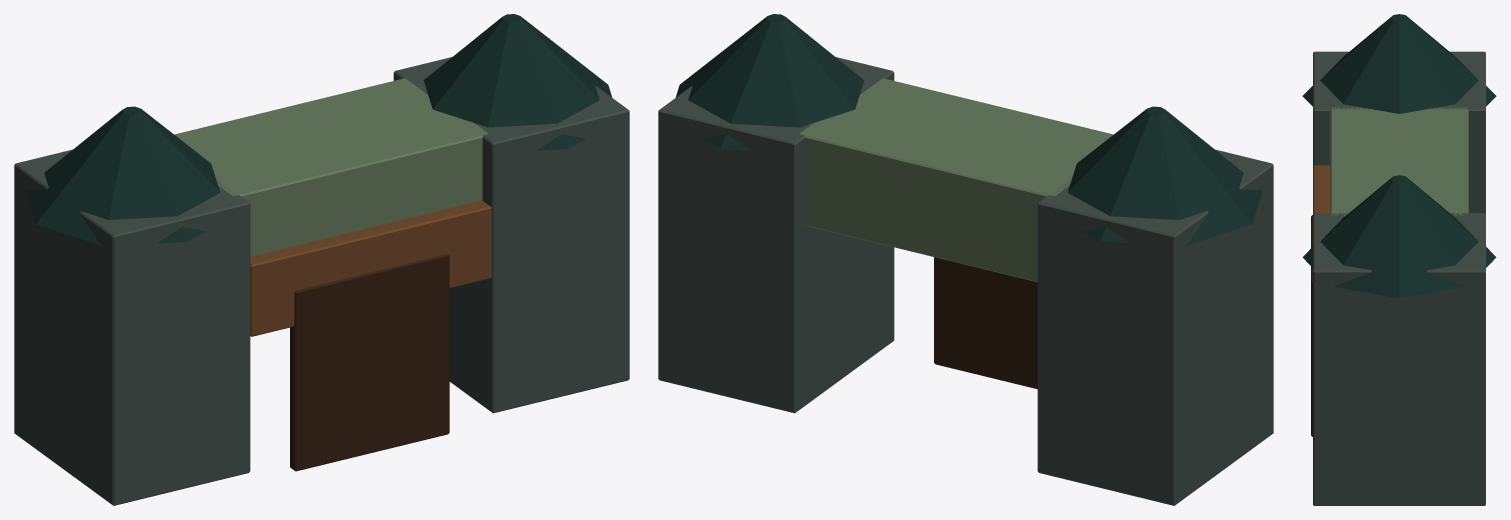
File: LumenFrontierGatehouseV2.glb
3 views of the same model, side by side, from view 1: azimuth 30°, elevation 25°; view 2: azimuth 150°, elevation 25°; view 3: azimuth 270°, elevation 25° (orthographic). The views are drawn at different scales.
Visible parts, largest first — view 1: LumenFrontierGatehouseV2; view 2: LumenFrontierGatehouseV2; view 3: LumenFrontierGatehouseV2.
Boxes of the visible parts, <box> form: LumenFrontierGatehouseV2: <box>14,14,629,505</box>; LumenFrontierGatehouseV2: <box>658,14,1273,505</box>; LumenFrontierGatehouseV2: <box>1302,14,1496,505</box>.
Bounding box in the file's own units: 33.2 × 19.5 × 11.2.
1 material, 1 textured.
